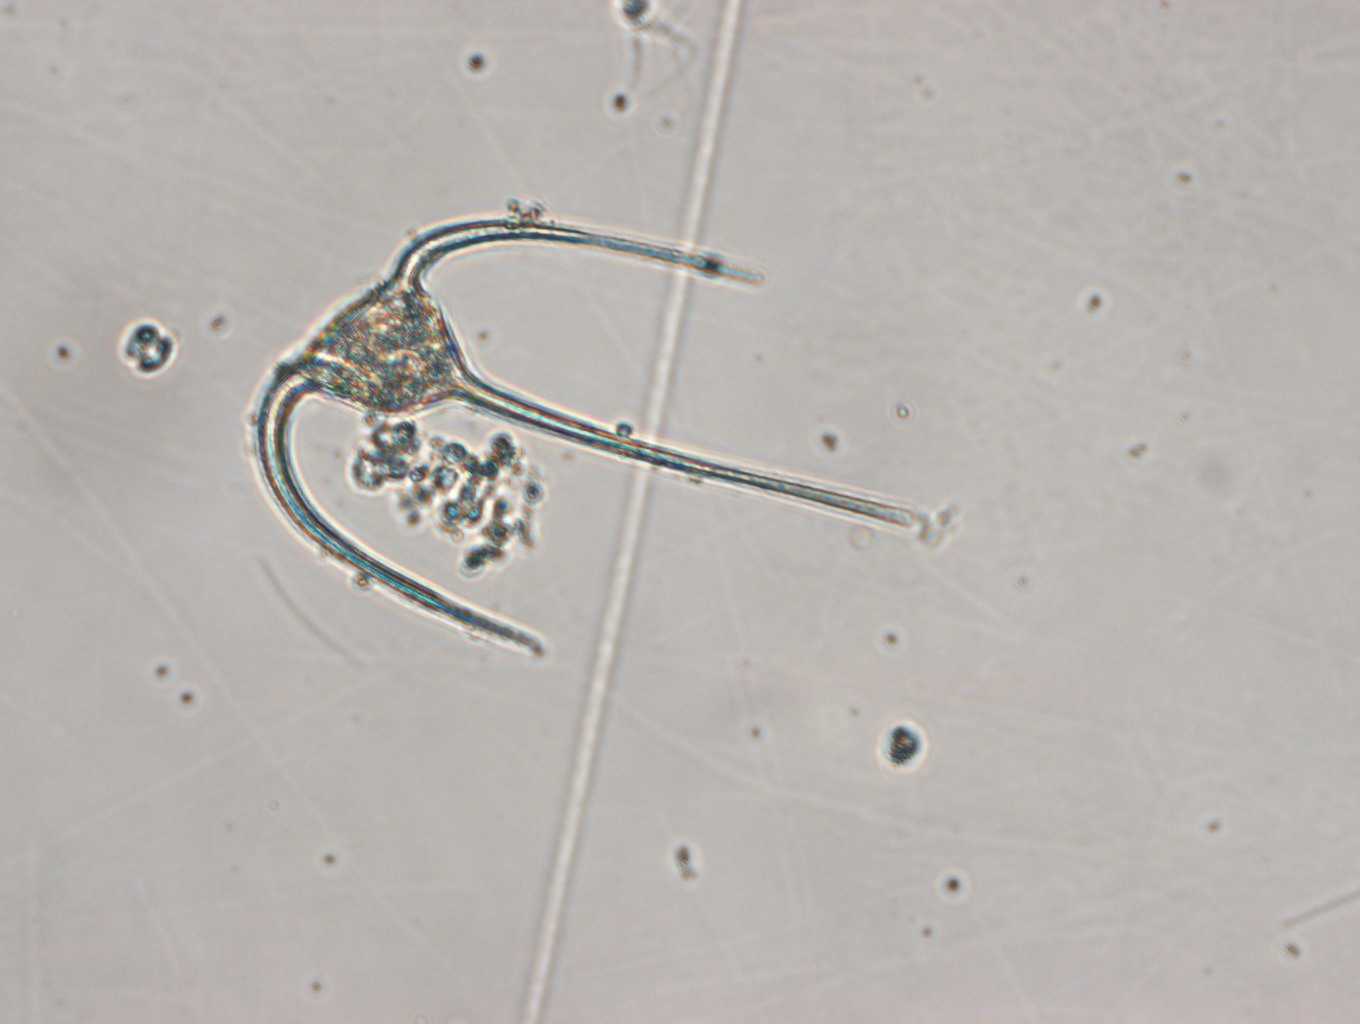ceratium trichoceros: (244, 209, 928, 664)
